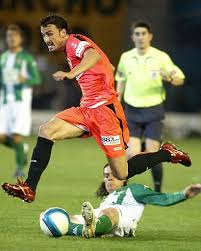fall: (49, 160, 201, 242)
